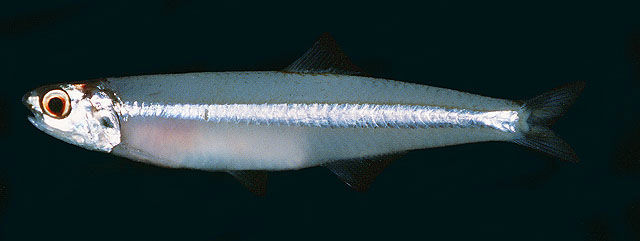fish: (20, 69, 572, 185)
